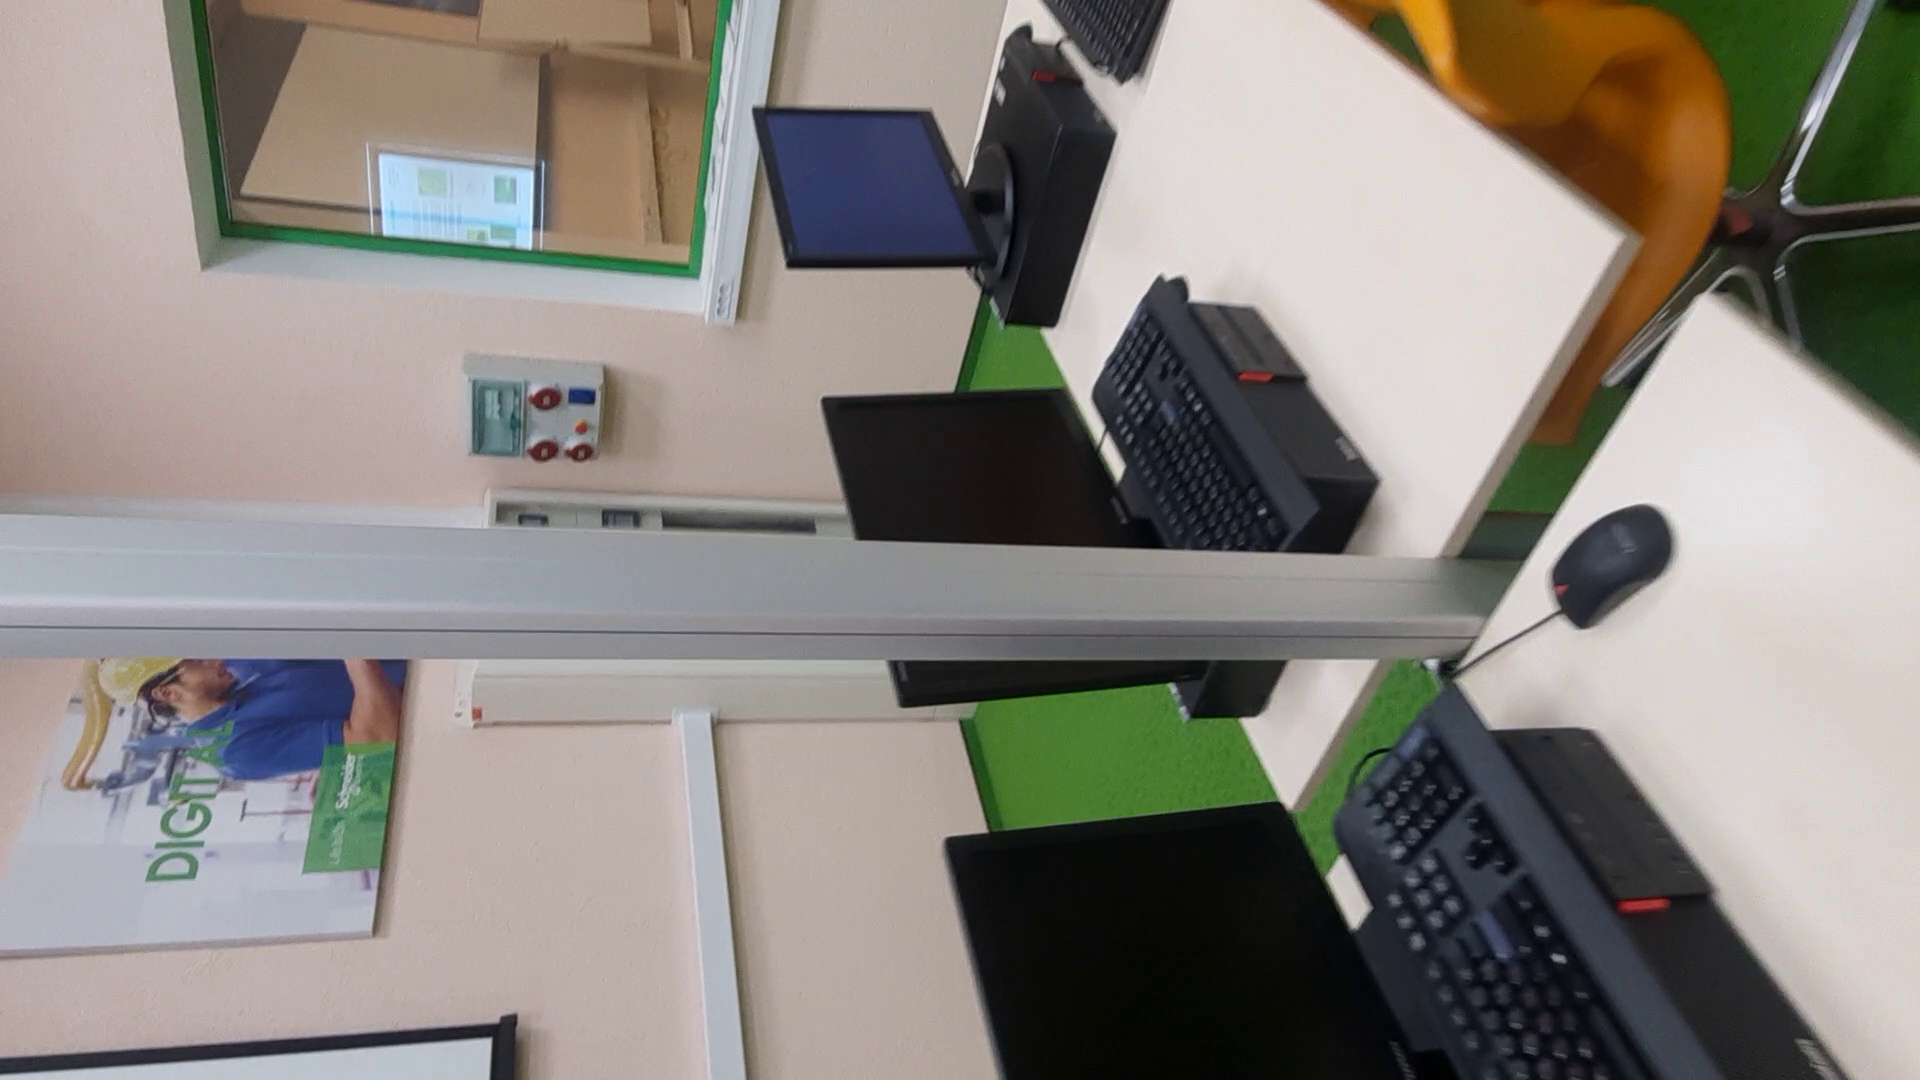stand1: (469, 488, 857, 711)
